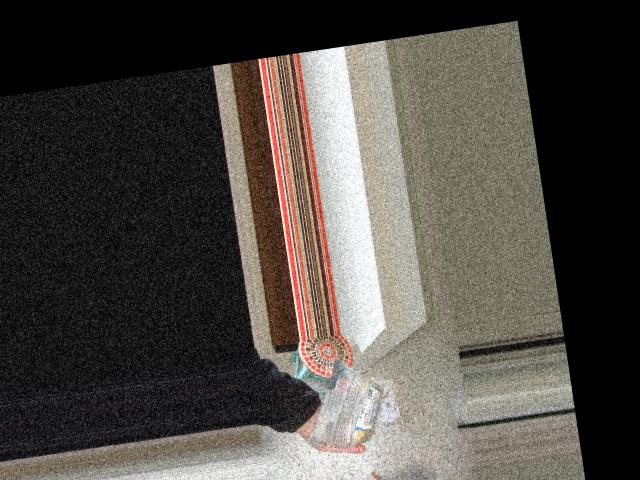cheese: (314, 380, 409, 432)
